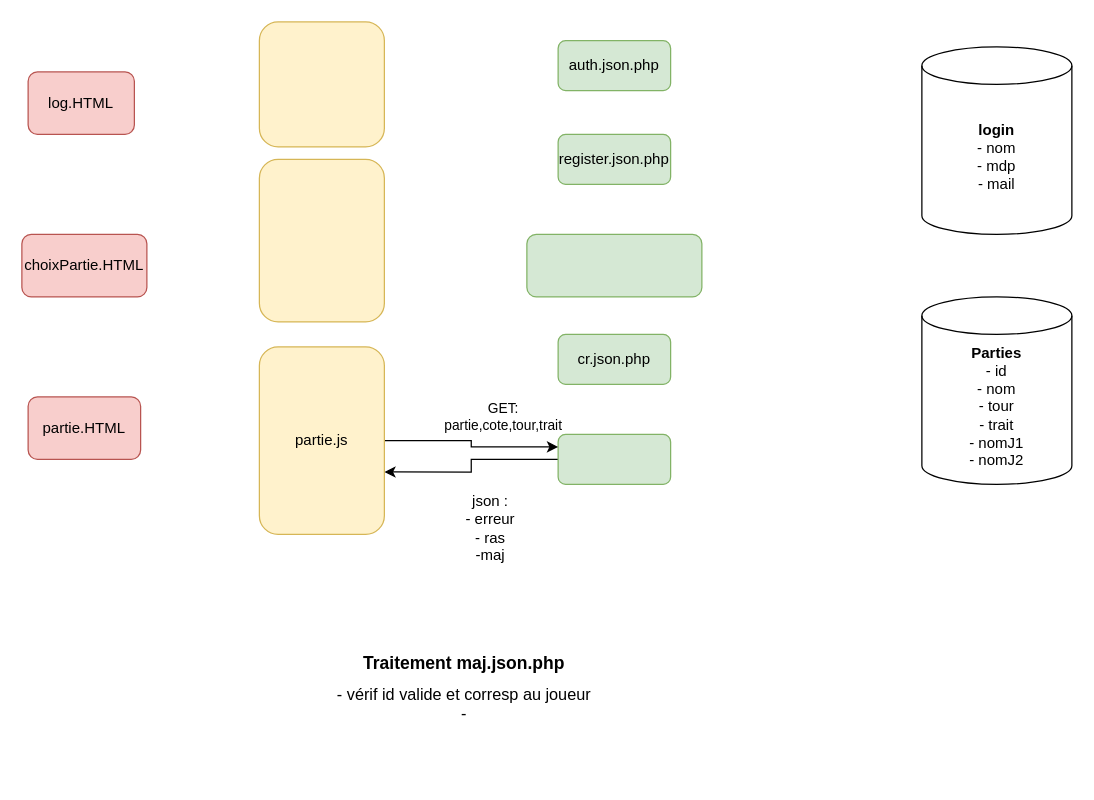
Image size: 1094x800. Some labels were removed from this diagram. The box of each missing label's shape, as (x1, y1, x2, y2) in pixels:
choixPartie.js: (258, 158, 384, 322)
log.js: (258, 21, 384, 147)
maj.json.php: (557, 433, 671, 484)
nouvellePartie.json.php: (526, 233, 702, 297)
